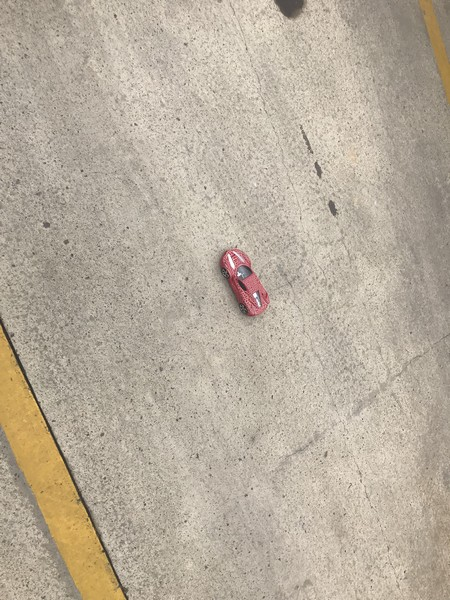RC: (219, 247, 271, 319)
